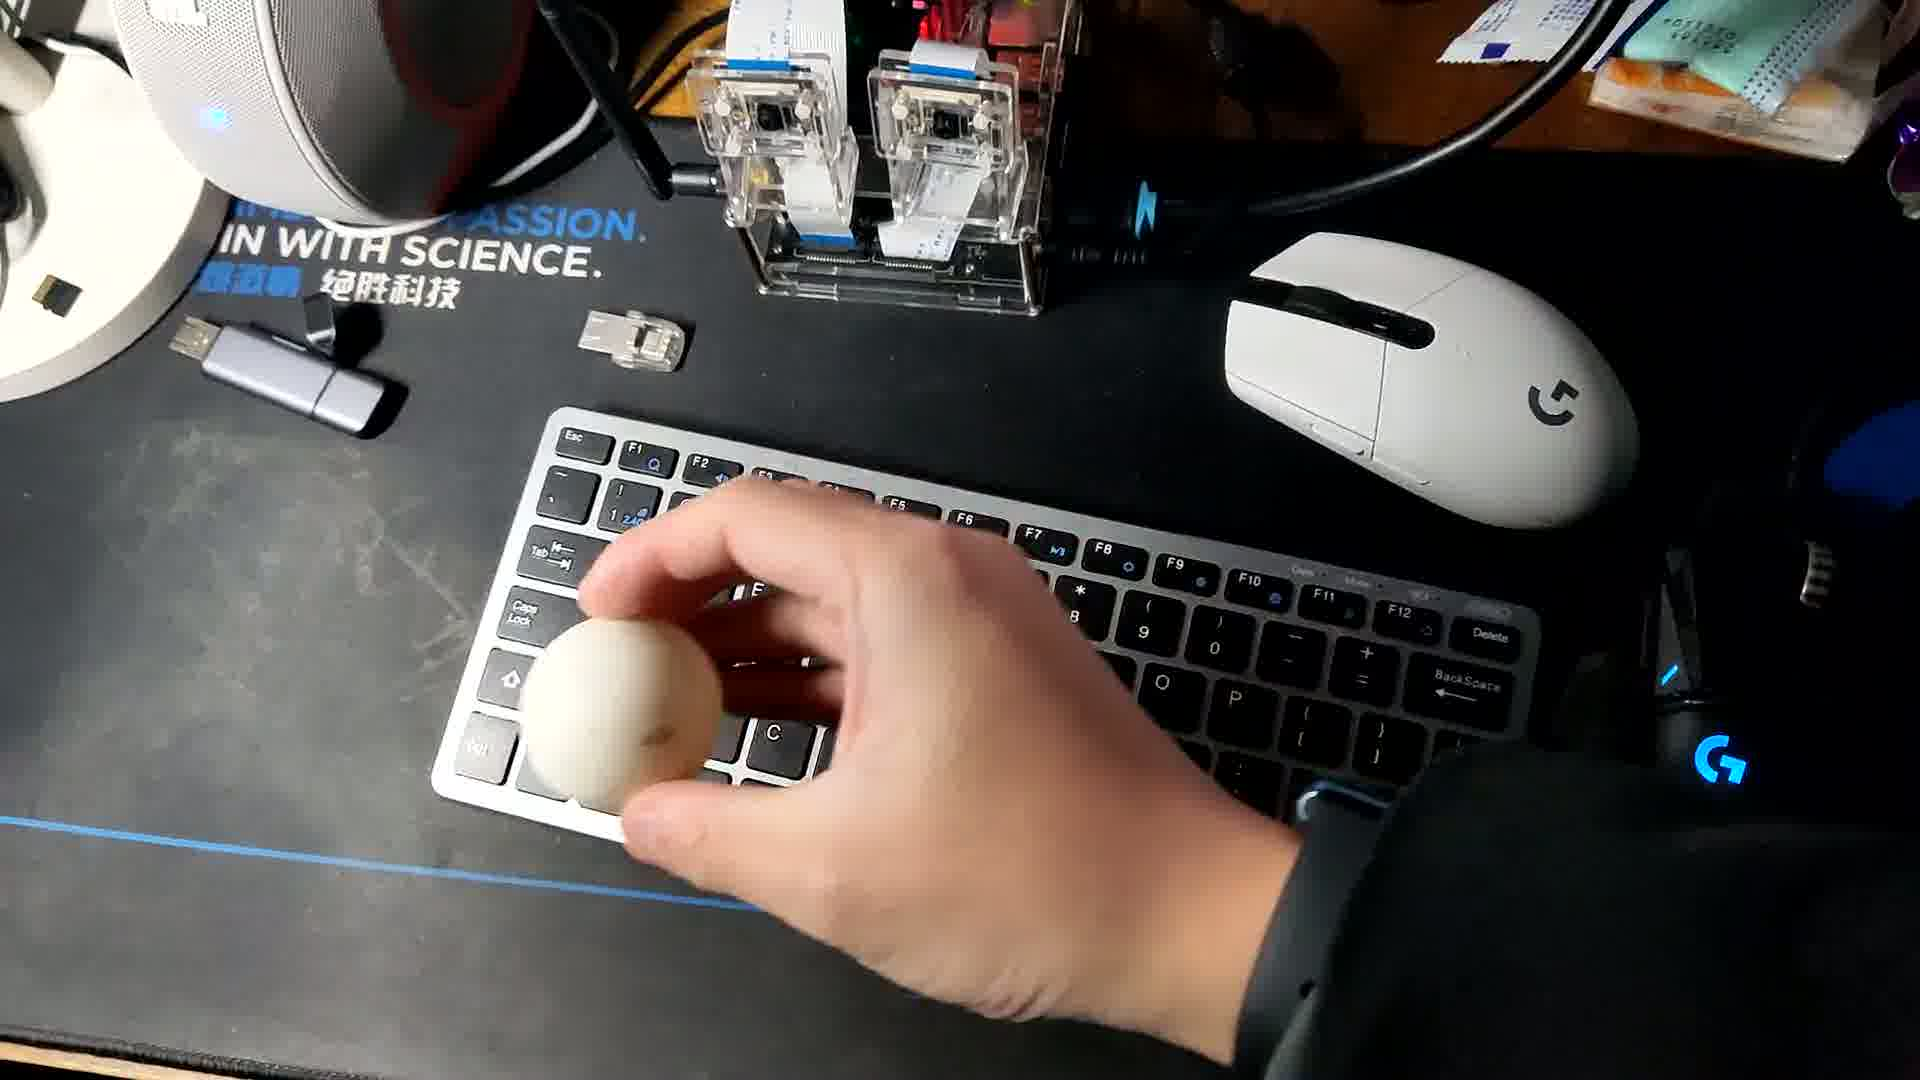Ball: (521, 617, 727, 811)
